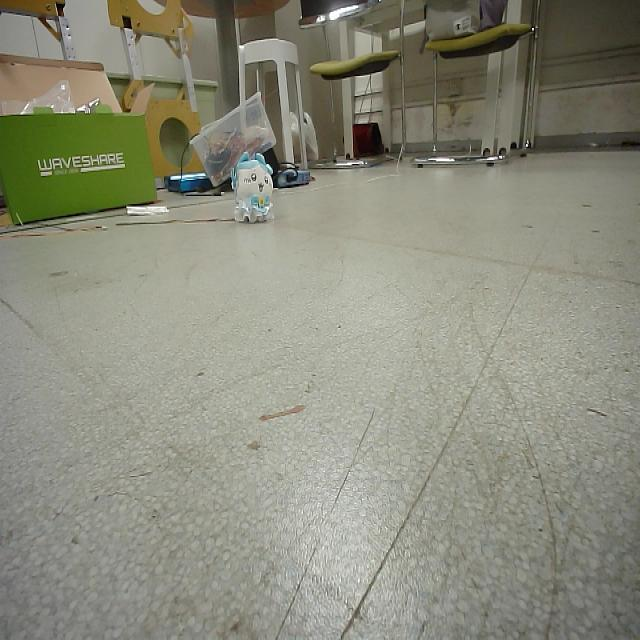xiaoba: (232, 151, 274, 228)
